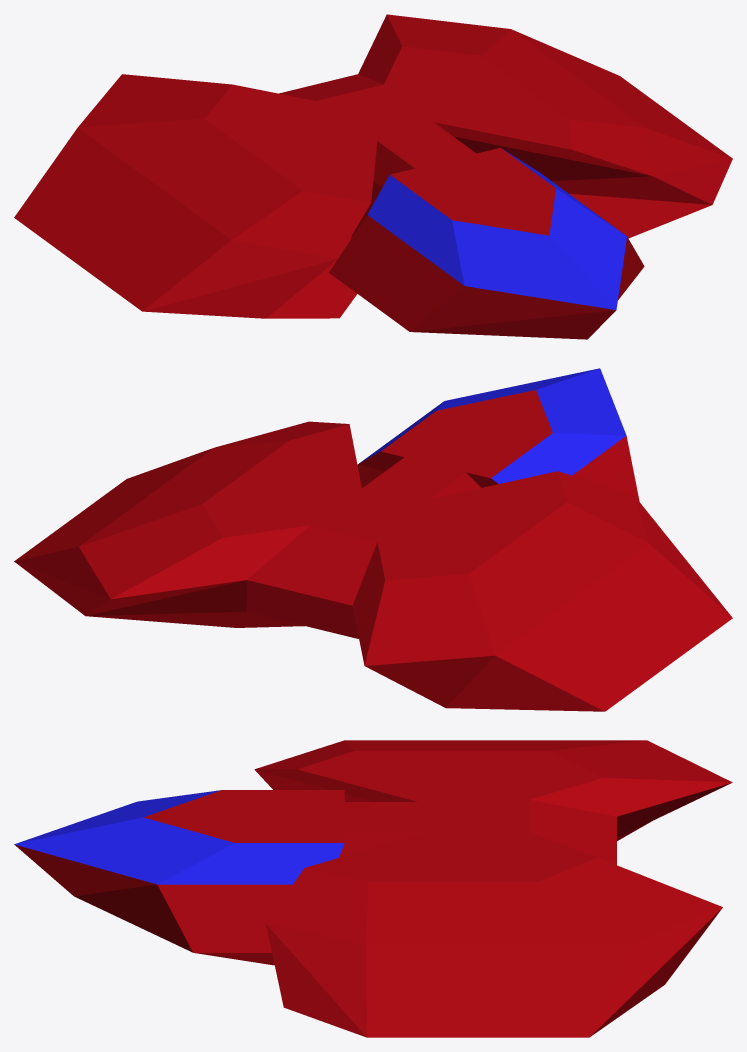
Rendered from enemy.dae.
3 renders of one model, top to bottom at view 1: azimuth 30°, elevation 25°; view 2: azimuth 150°, elevation 25°; view 3: azimuth 270°, elevation 25°, orthographic.
Visible parts, largest first — view 1: SketchUp (×2); view 2: SketchUp (×2); view 3: SketchUp (×2).
Boxes of the visible parts, x1=… form: SketchUp (×2): x1=14, y1=14, x2=732, y2=339; SketchUp (×2): x1=14, y1=368, x2=732, y2=711; SketchUp (×2): x1=14, y1=740, x2=732, y2=1037.
Size of the model in its own units: 129 by 136 by 24.45.
